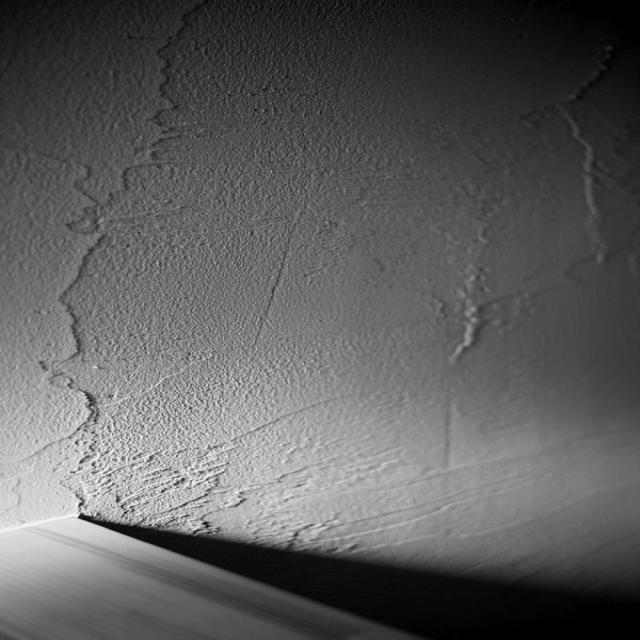trowels marks: (0, 0, 640, 520), (90, 512, 640, 589)
